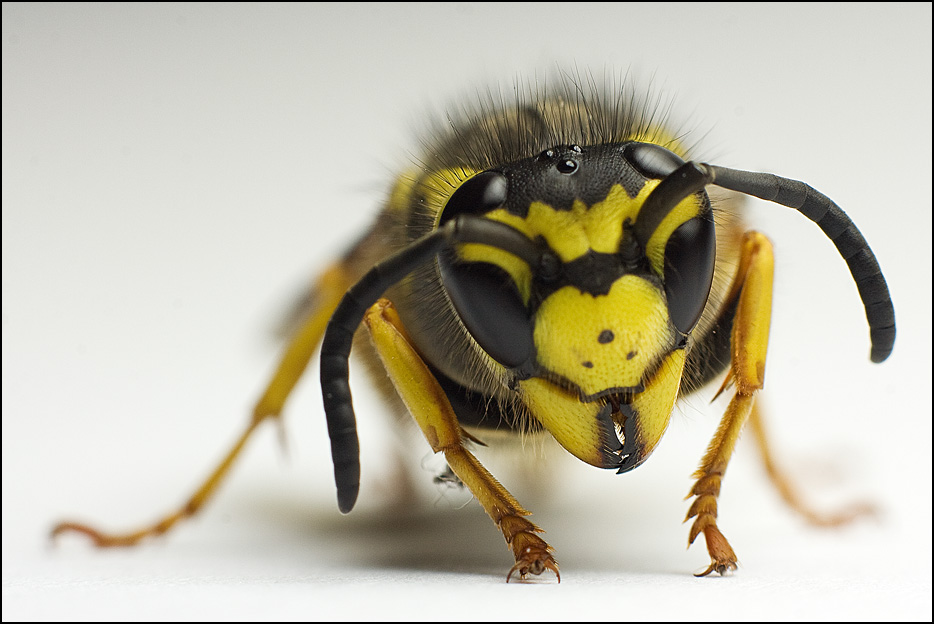chax: (247, 59, 918, 607)
